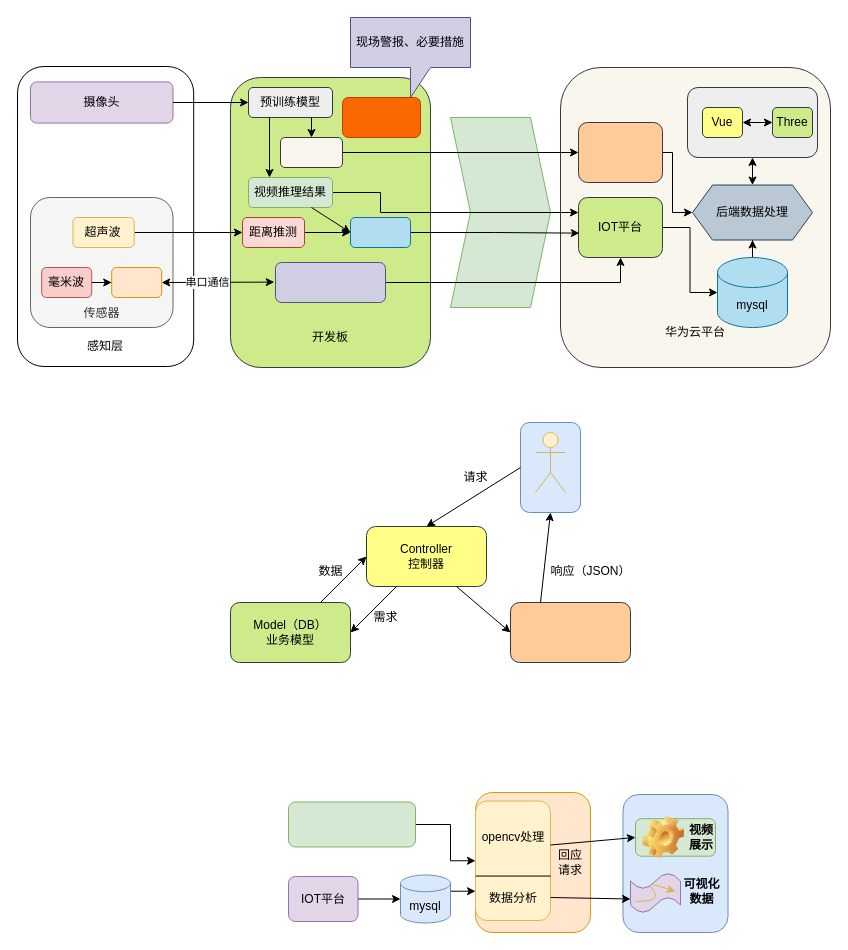
This 848x950 diagram has some shape labels left out. Here are the shapes that lost their labels. From the top down, the centre of each, then its label:
[381,117]: 异常处理
[311,152]: RSTP推流
[620,152]: RSTP推流 服务器
[380,232]: 联合分析判断小孩
[500,212]: 工业5G模块 （USB串口）
[136,282]: 本地计算
[330,282]: 人体姿态查询判断
[550,462]: 用户
[570,632]: View 视图
[352,824]: RSTP视频推流服务器
